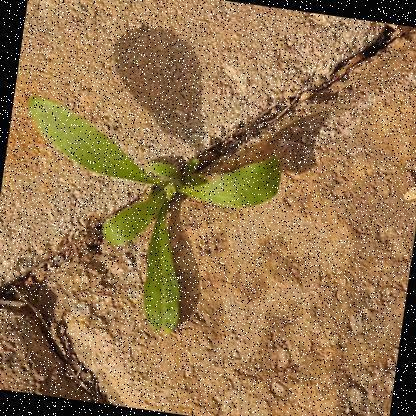Weeds: (0, 91, 289, 351)
